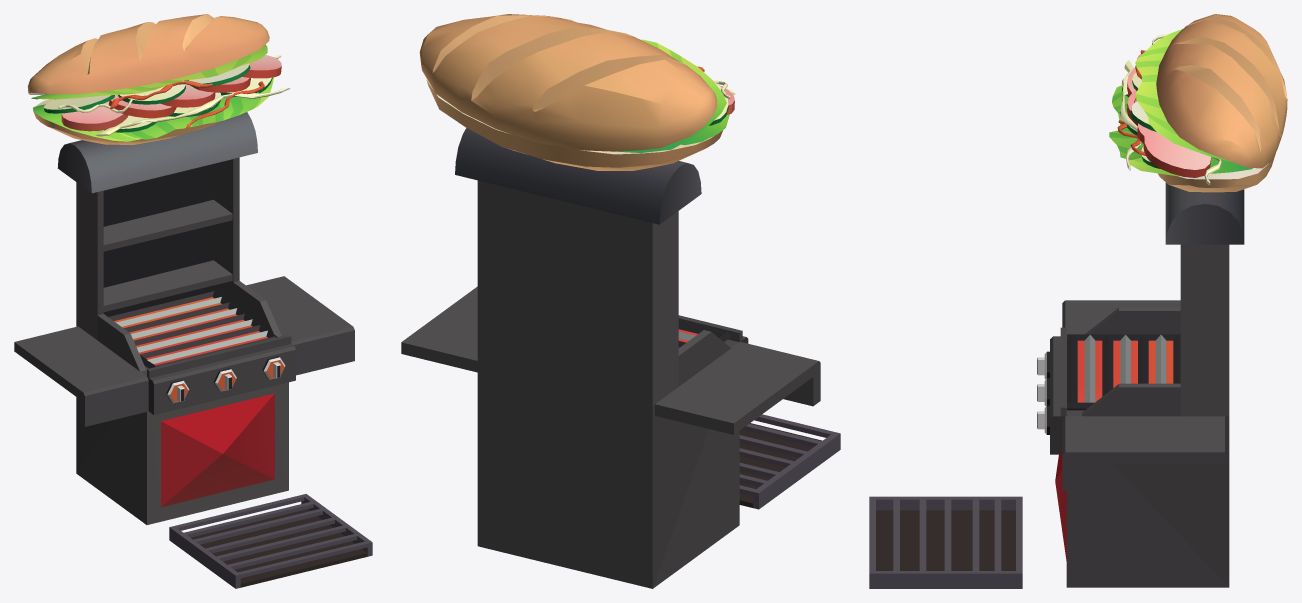
Rendered from Machine_HotDog.fbx.
3 renders of one model, left to right at view 1: azimuth 30°, elevation 25°; view 2: azimuth 150°, elevation 25°; view 3: azimuth 270°, elevation 25°, orthographic. The views are drawn at different scales.
Parts seen in each view (by area): view 1: Machine_HotDog; view 2: Machine_HotDog; view 3: Machine_HotDog.
Boxes of the visible parts, left/top/right/bottom form: Machine_HotDog: left=14, top=14, right=372, bottom=588; Machine_HotDog: left=401, top=14, right=840, bottom=588; Machine_HotDog: left=869, top=14, right=1287, bottom=588.
Bounding box in the file's own units: 651 × 1006 × 757.
